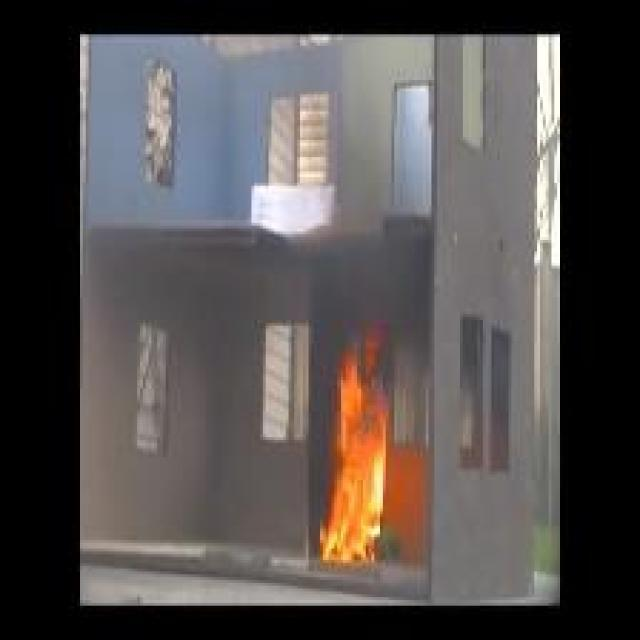Fire: (324, 326, 394, 568)
